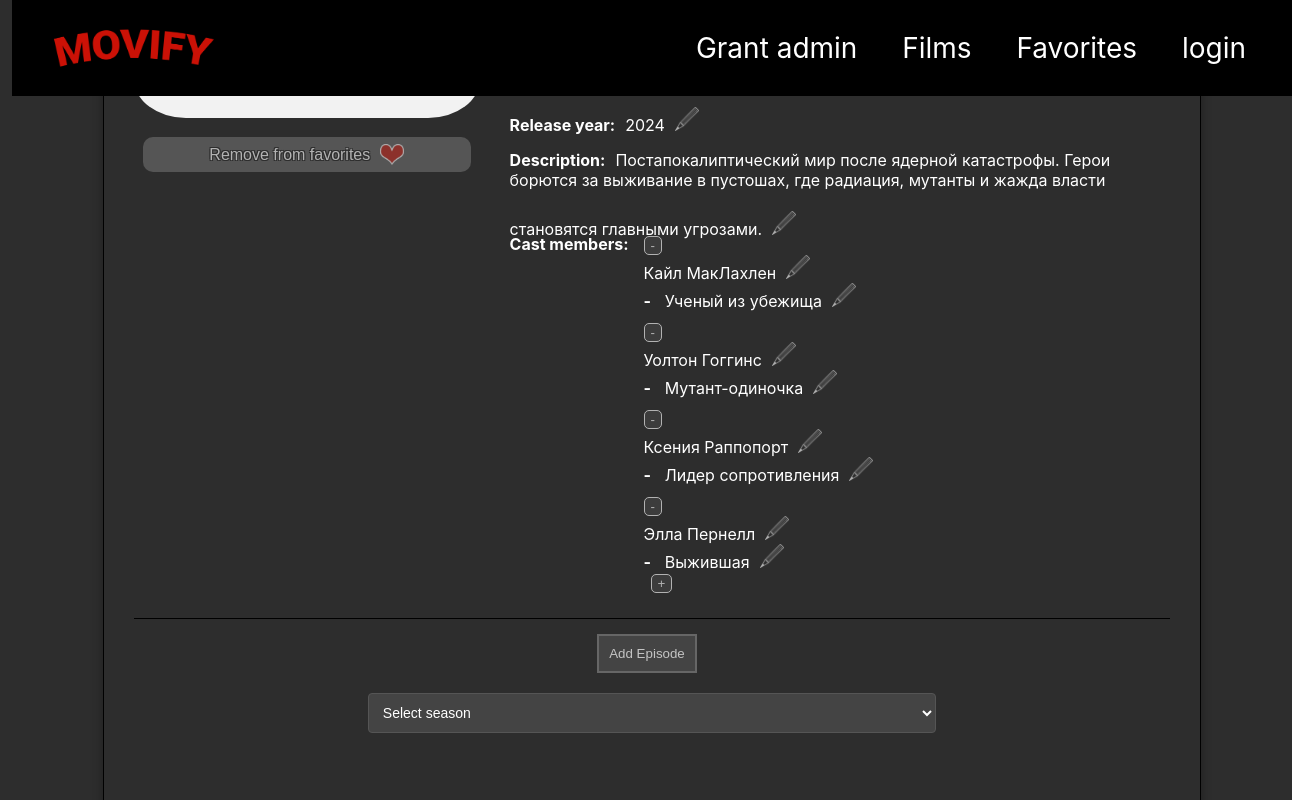
Test: FilmDetail › displays correct message for ADMIN and NOT_UPLOADED
(page scrolled)
Select "Season 1" in the dropdown. click: (652, 713)
box: x1=368 y1=693 x2=936 y2=733
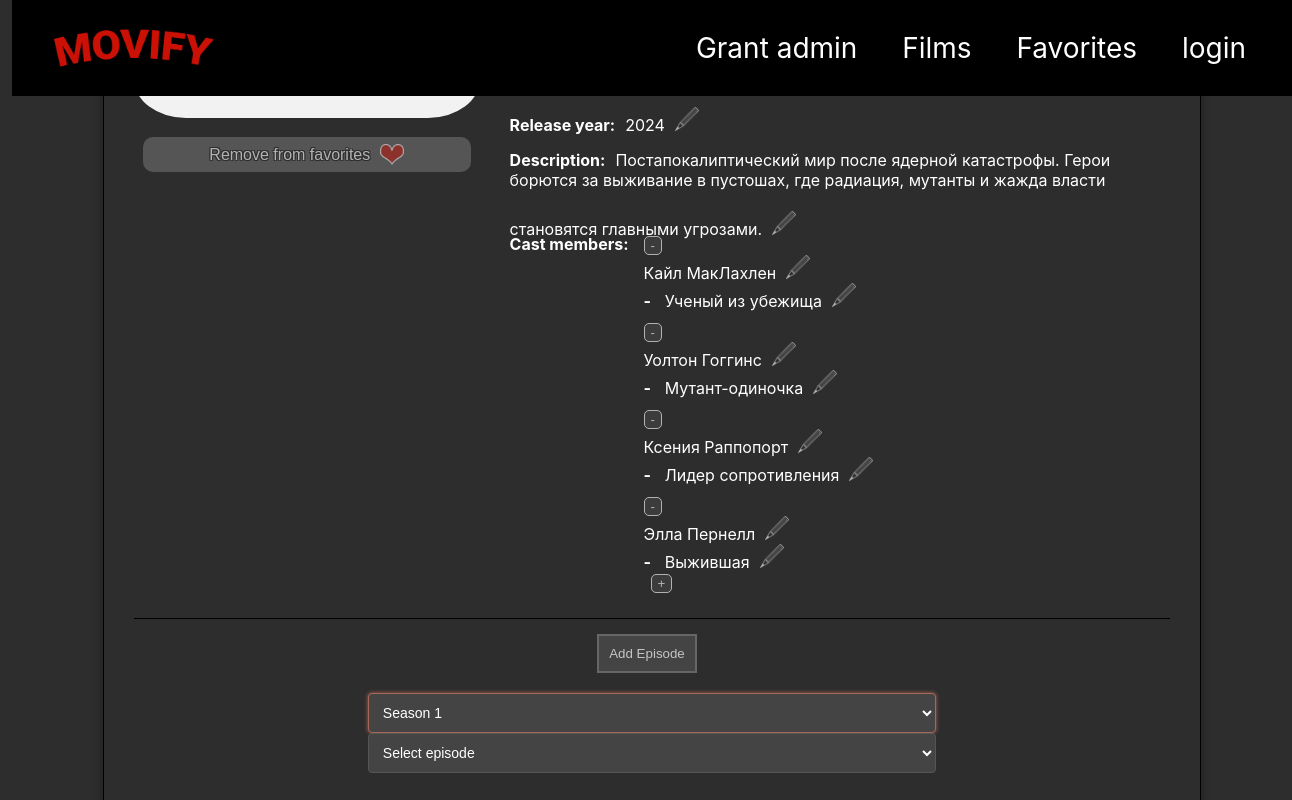
Select "1. Test Episode" in the 2nd dropdown. click: (652, 753)
box: x1=368 y1=733 x2=936 y2=773
(page scrolled)
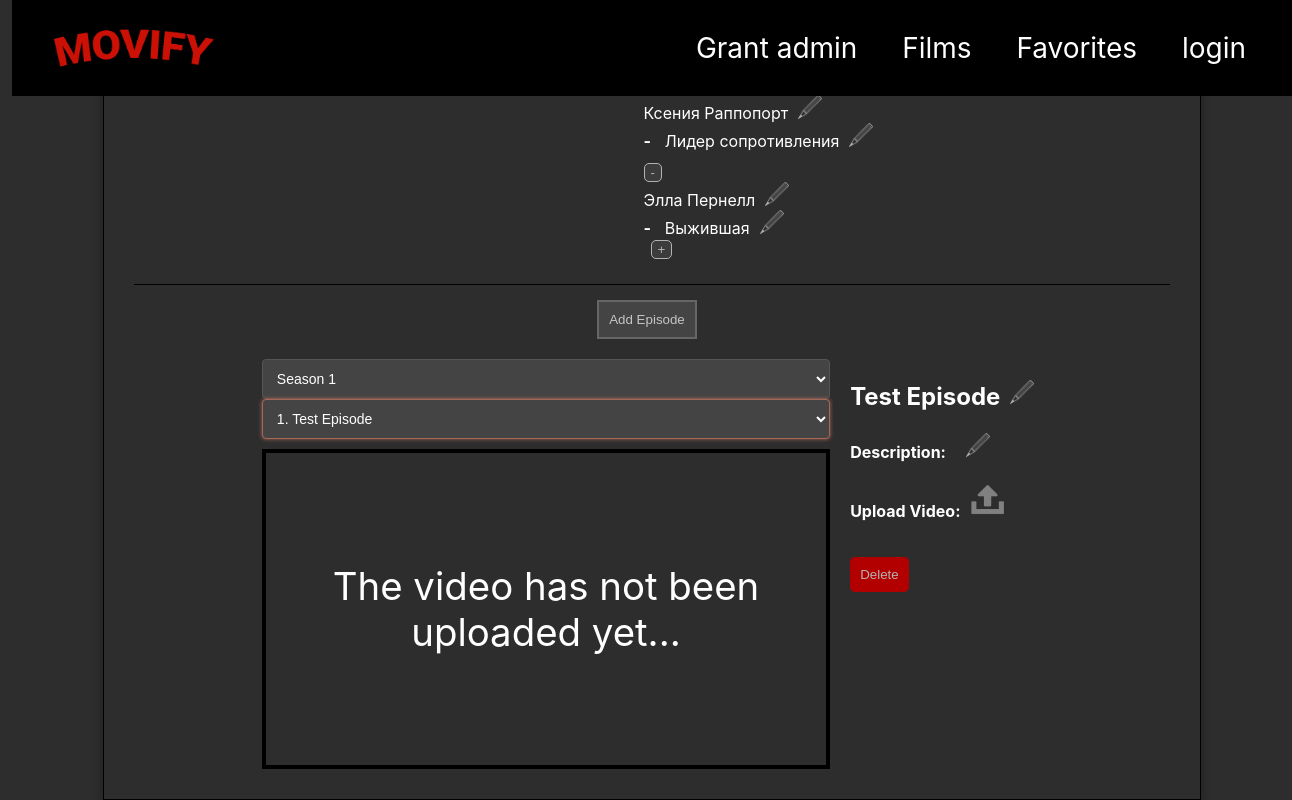
Result: the text "The video has not been uploaded yet..." is shown at x1=262 y1=449 x2=830 y2=769
